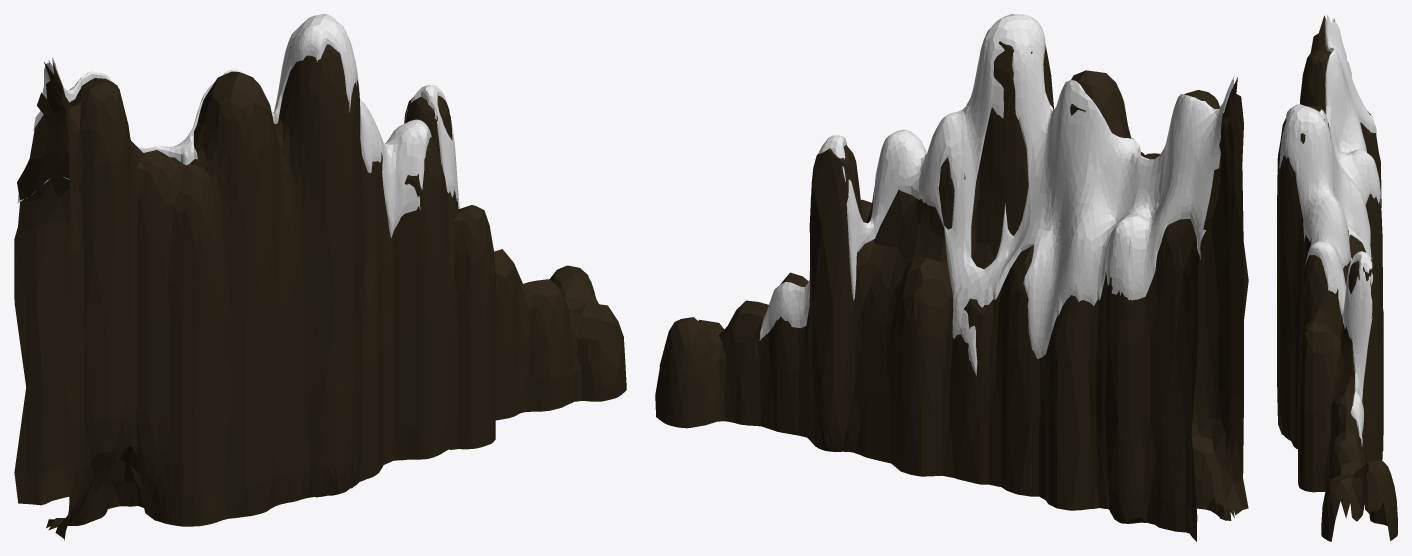
The model's file is Mtn_Wall_N2.fbx.
3 views of the same model, side by side, from view 1: azimuth 30°, elevation 25°; view 2: azimuth 150°, elevation 25°; view 3: azimuth 270°, elevation 25° (orthographic). The views are drawn at different scales.
Parts seen in each view (by area): view 1: Mtn_Wall_N2; view 2: Mtn_Wall_N2; view 3: Mtn_Wall_N2.
Boxes of the visible parts, x1,y1,x2,y2 form: Mtn_Wall_N2: (14,14,626,540); Mtn_Wall_N2: (655,14,1248,541); Mtn_Wall_N2: (1277,14,1397,541).
Size of the model in its own units: 23773 by 18466 by 6110.
